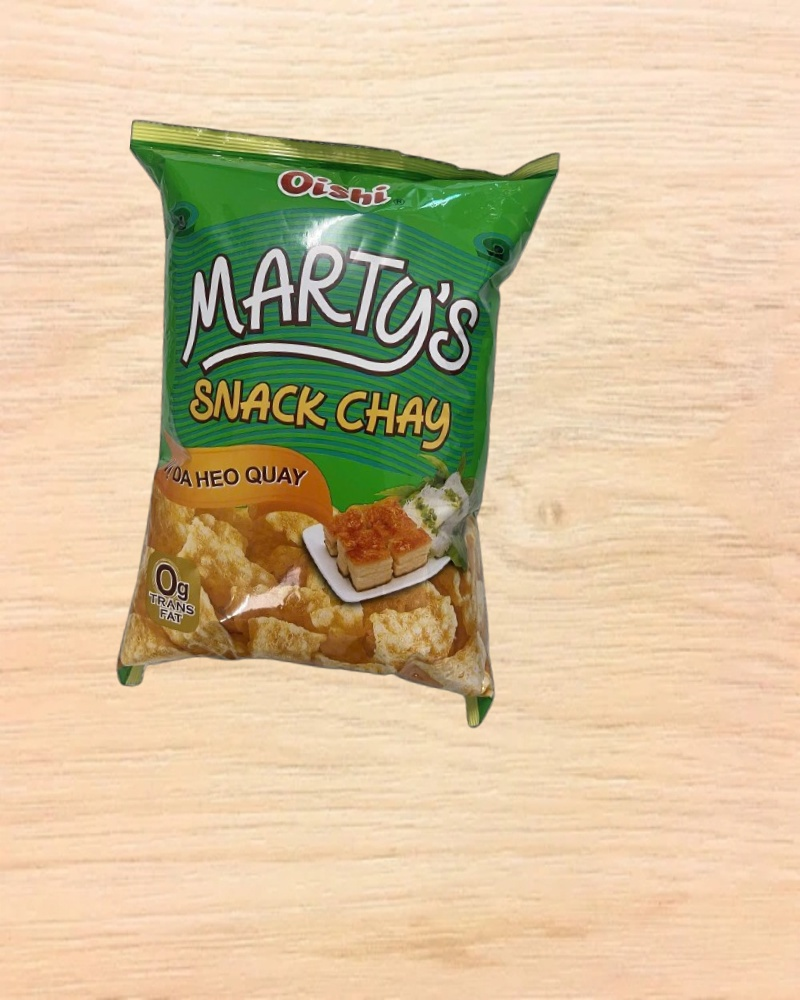Snack chay: (83, 116, 561, 732)
